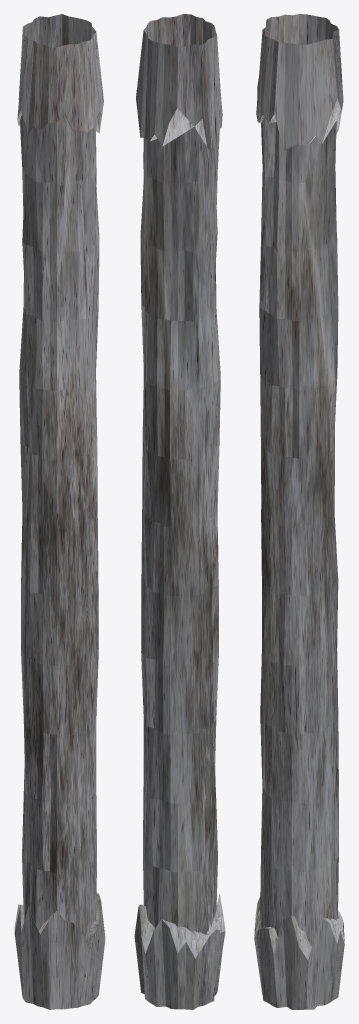
File: post.obj
3 renders of one model, left to right at view 1: azimuth 30°, elevation 25°; view 2: azimuth 210°, elevation 25°; view 3: azimuth 270°, elevation 25°, orthographic.
Parts seen in each view (by area): view 1: 円柱_円柱.002; view 2: 円柱_円柱.002; view 3: 円柱_円柱.002.
Boxes of the visible parts, x1,y1,x2,y2 form: 円柱_円柱.002: [14, 14, 105, 1009]; 円柱_円柱.002: [134, 14, 225, 1009]; 円柱_円柱.002: [254, 14, 344, 1009].
Bounding box in the file's own units: 14.85 × 175 × 14.87.
1 material, 1 textured.
